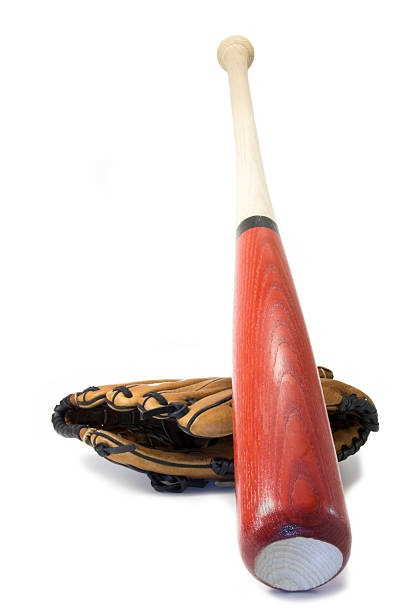bita: (217, 29, 349, 584)
